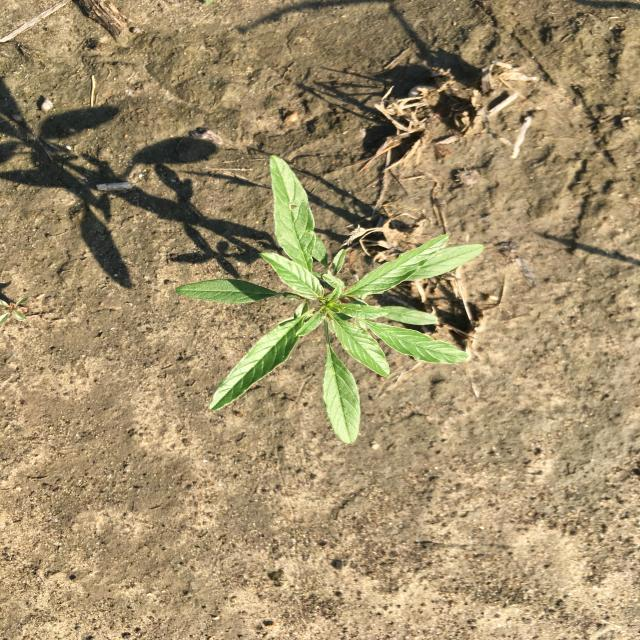Waterhemp: (174, 153, 487, 448)
